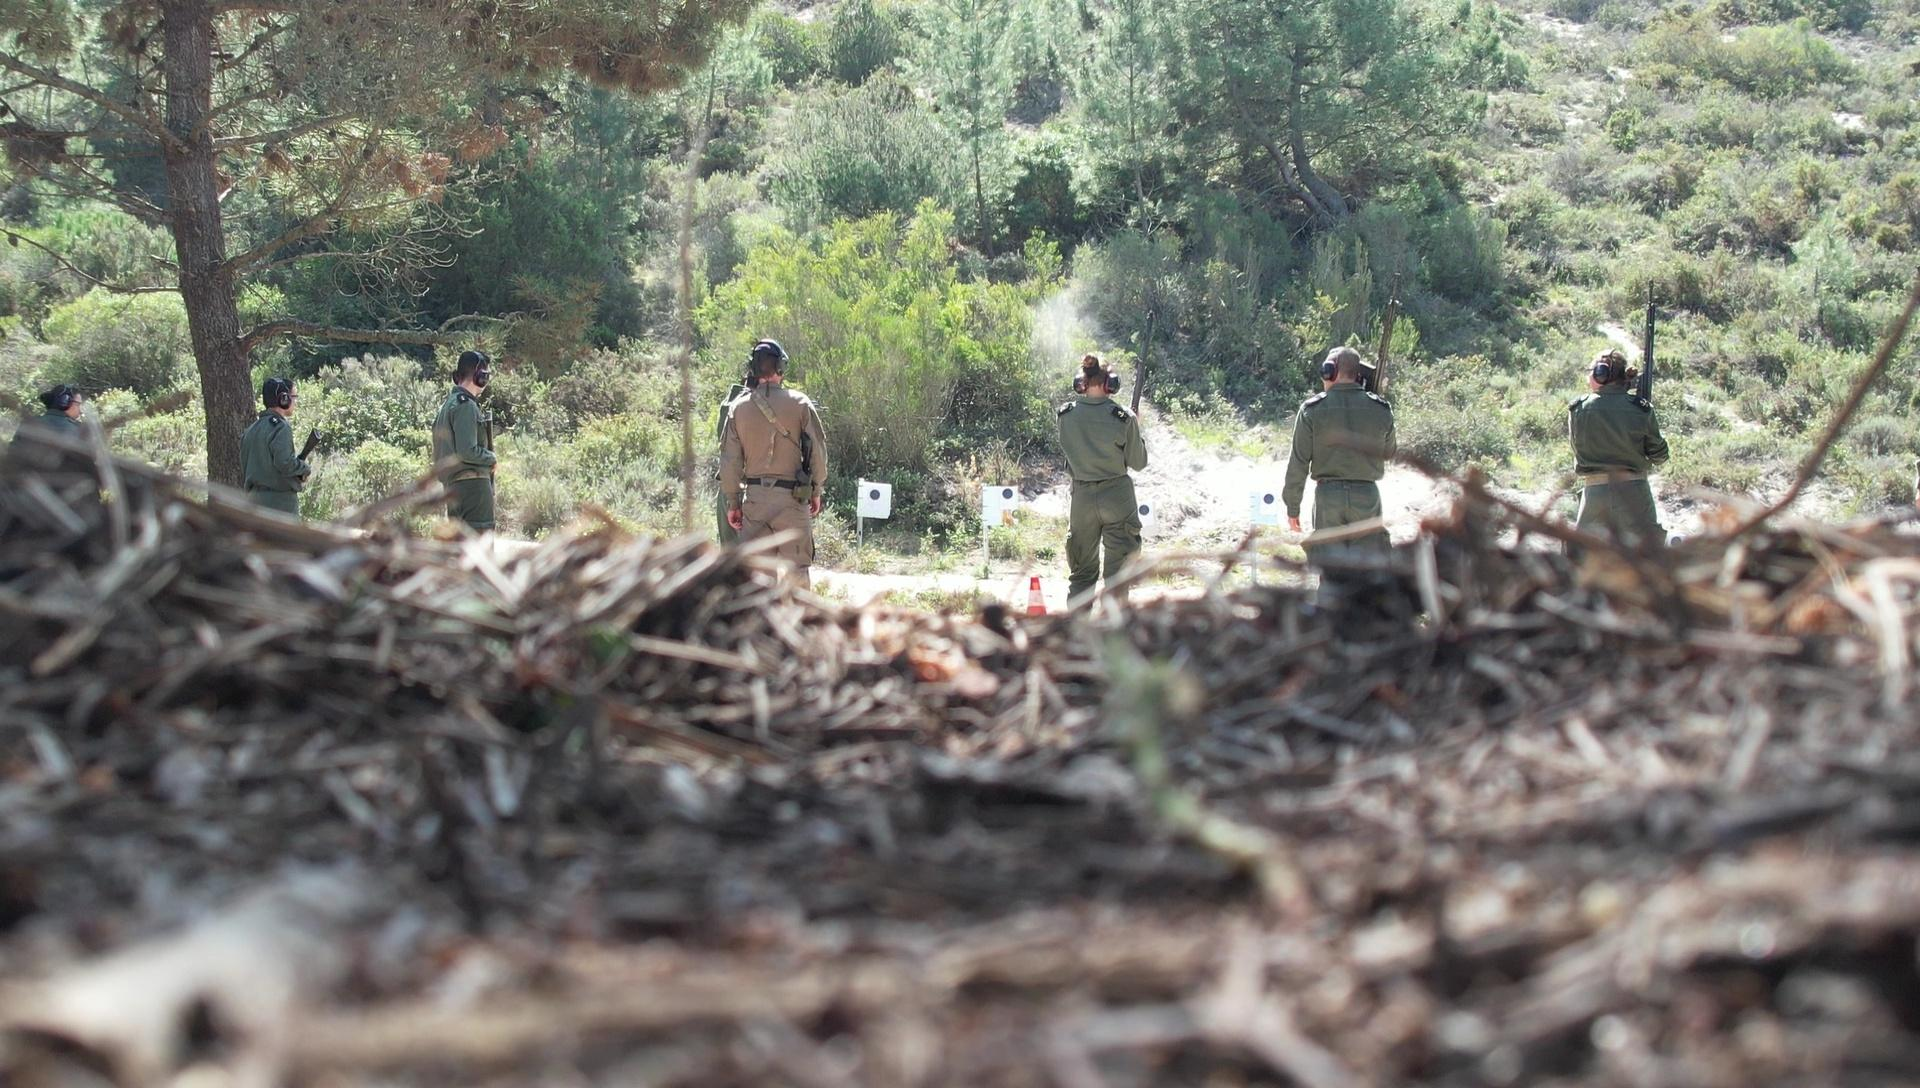Soldier: (1038, 323, 1173, 619), (1553, 264, 1693, 546), (1283, 286, 1423, 551), (713, 333, 837, 571), (425, 330, 527, 542), (203, 364, 326, 514)
